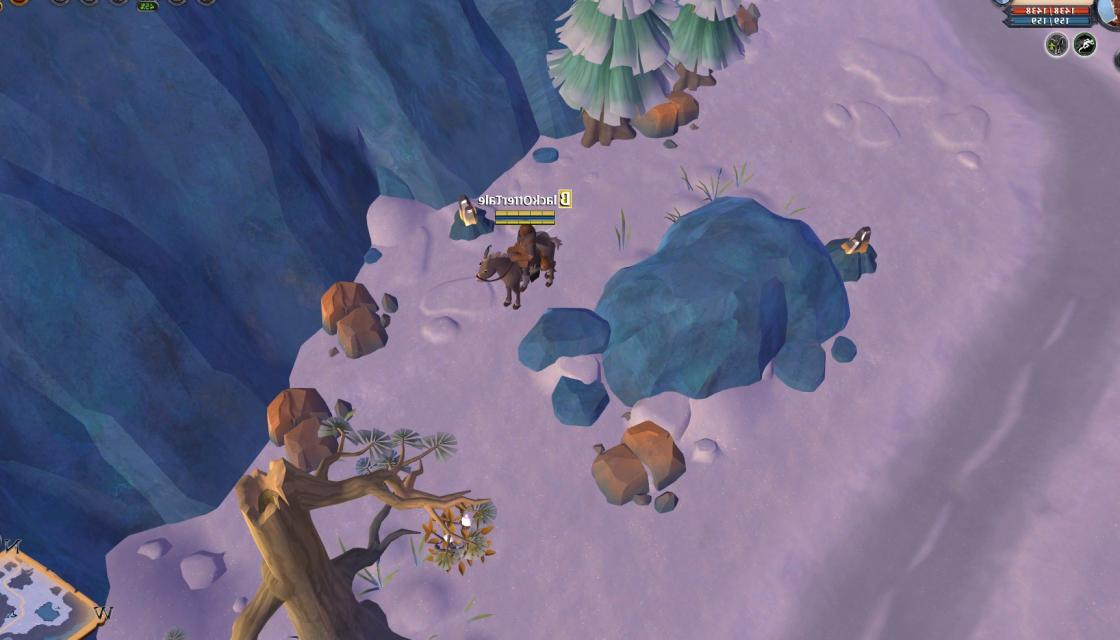copperore: (816, 222, 884, 286), (442, 186, 495, 244)
limestone: (589, 418, 695, 510), (262, 384, 345, 472), (318, 276, 402, 358), (631, 86, 703, 142)
